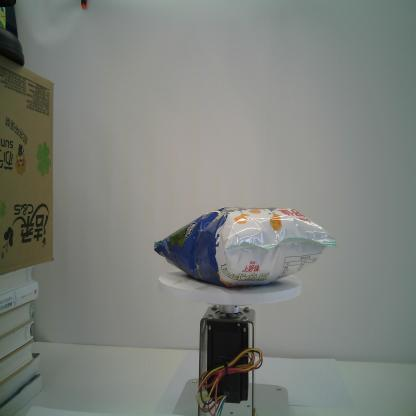Puffed Food: (153, 204, 339, 289)
